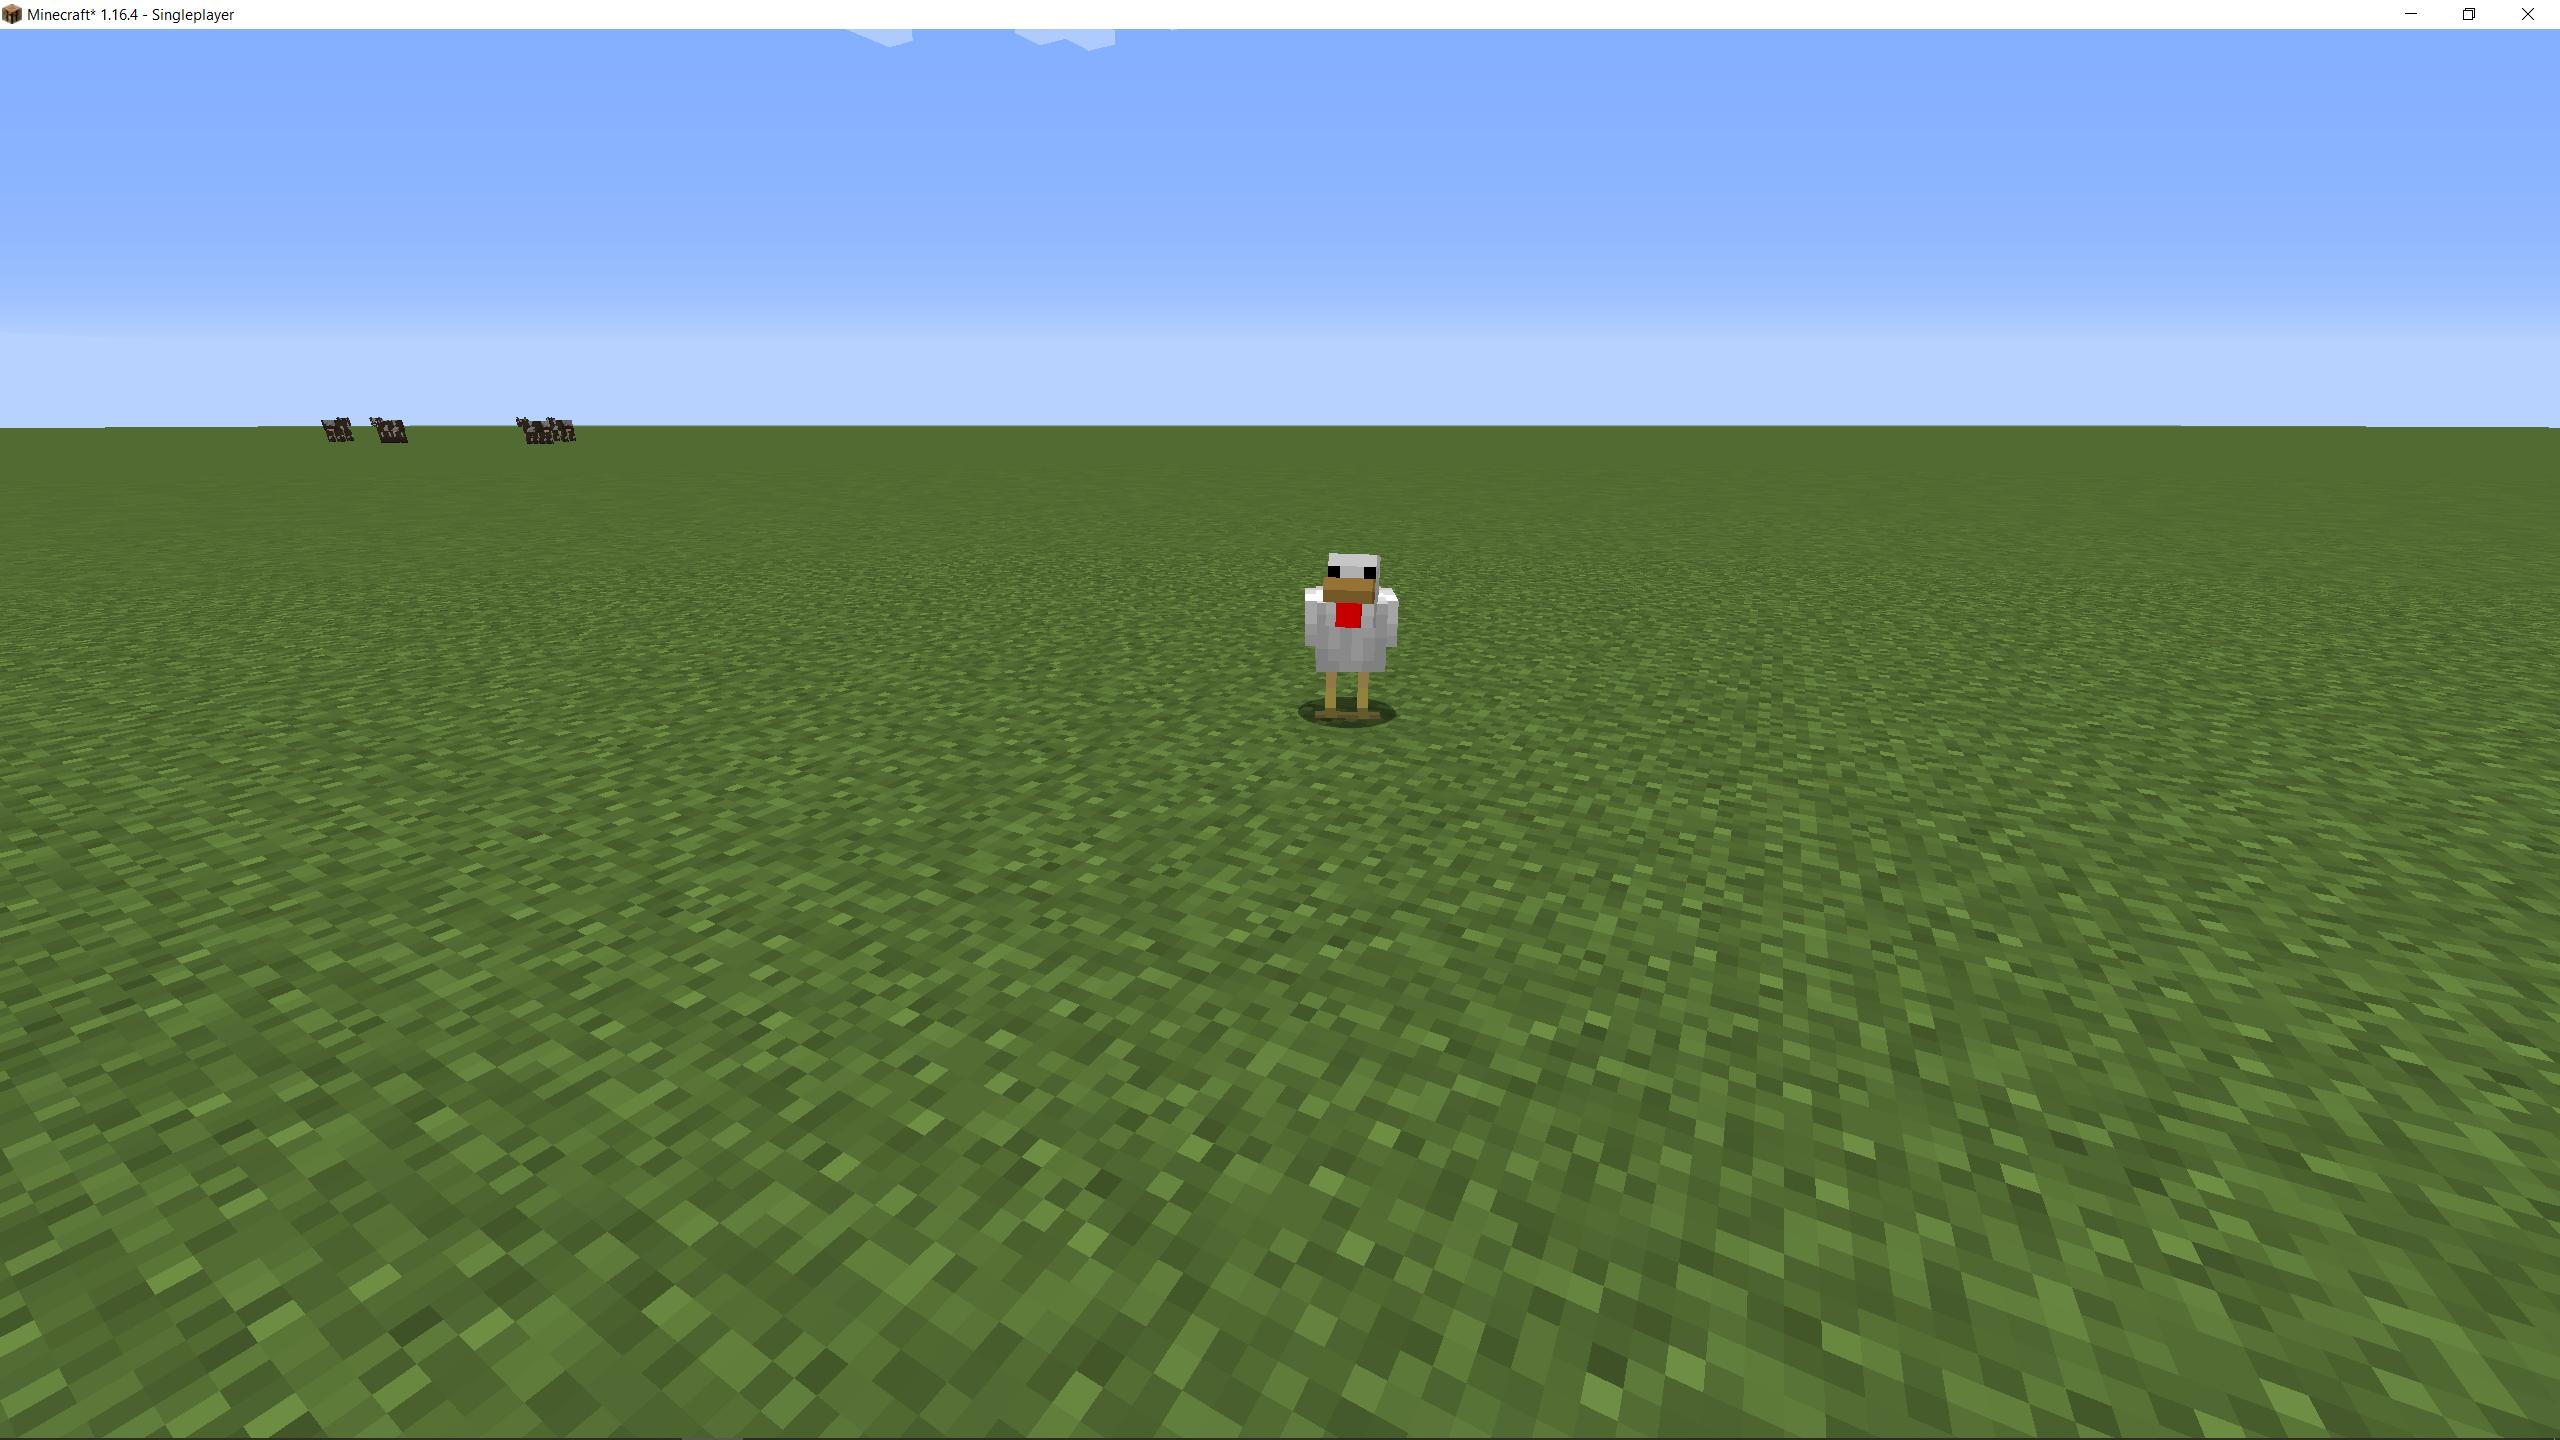chicken: (1292, 549, 1414, 728)
